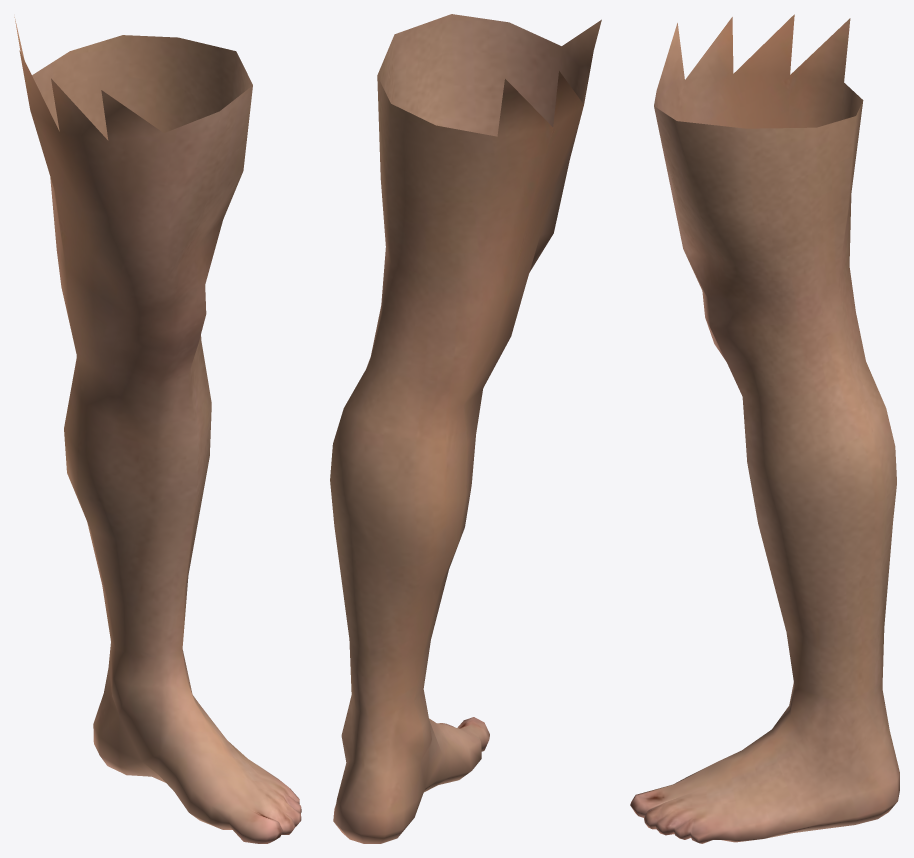
The model's file is character_leg_r_naked.glb.
The picture shows the model from 3 angles, left to right: view 1: azimuth 30°, elevation 25°; view 2: azimuth 150°, elevation 25°; view 3: azimuth 270°, elevation 25°; orthographic projection. The views are drawn at different scales.
Visible parts, largest first — view 1: tripo_node_bc81f8f9-a104-44a7-afac-f094b41faff7; view 2: tripo_node_bc81f8f9-a104-44a7-afac-f094b41faff7; view 3: tripo_node_bc81f8f9-a104-44a7-afac-f094b41faff7.
Part boxes in pixels (left/top/right/bottom): tripo_node_bc81f8f9-a104-44a7-afac-f094b41faff7: left=14, top=17, right=301, bottom=843; tripo_node_bc81f8f9-a104-44a7-afac-f094b41faff7: left=330, top=14, right=601, bottom=843; tripo_node_bc81f8f9-a104-44a7-afac-f094b41faff7: left=630, top=14, right=899, bottom=843.
Bounding box in the file's own units: 0.2333 × 0.7596 × 0.2521.
Materials: 1 (1 with a texture image).
